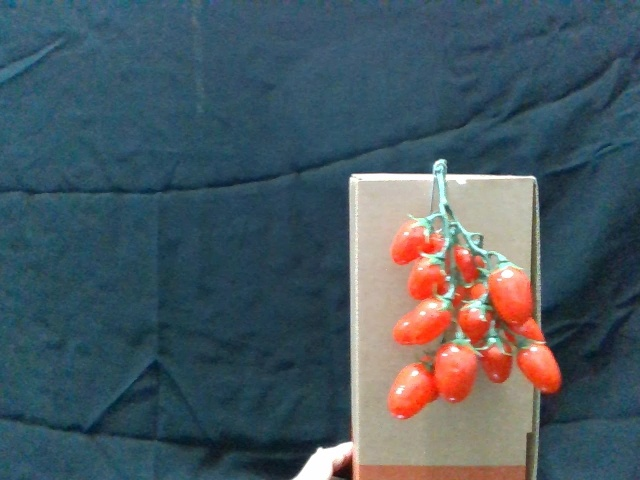tomato: (487, 259, 536, 326), (393, 297, 453, 350), (387, 358, 433, 420), (513, 337, 563, 393), (440, 340, 479, 403), (392, 215, 436, 267), (455, 292, 498, 343), (408, 253, 450, 303), (481, 332, 515, 384)
